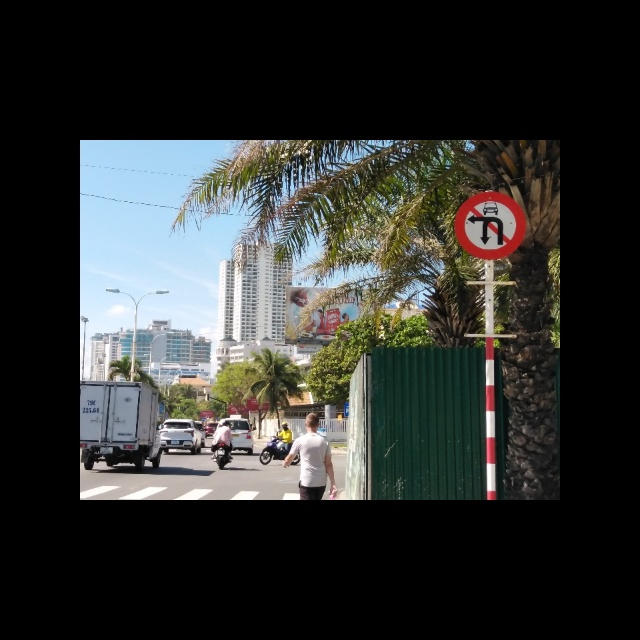Cấm xe ô tô quay đầu và rẽ trái: (453, 190, 528, 260)
